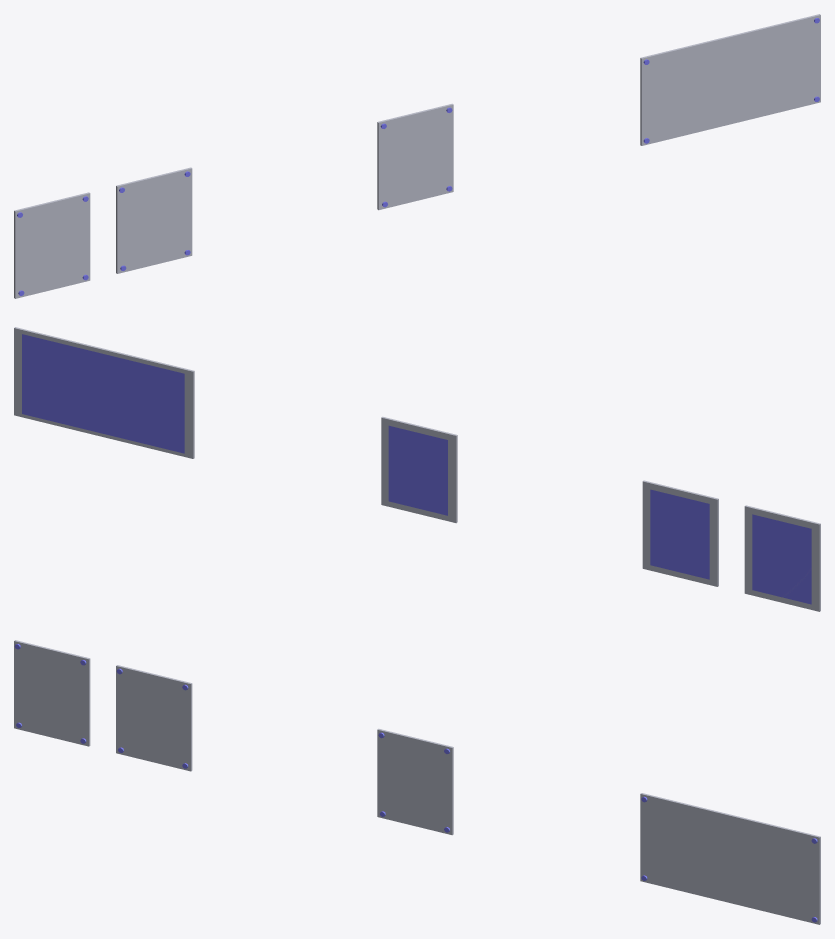
The model's file is wall_deco.fbx.
3 views of the same model, one above another, from view 1: azimuth 30°, elevation 25°; view 2: azimuth 150°, elevation 25°; view 3: azimuth 330°, elevation 25° (orthographic).
Parts seen in each view (by area): view 1: wall_deco_glass; view 2: wall_deco, wall_deco_glass; view 3: wall_deco_glass.
Boxes of the visible parts, x1,y1,x2,y2 form: wall_deco_glass: (14,14,820,298); wall_deco: (22,334,811,604); wall_deco_glass: (14,327,820,611); wall_deco_glass: (14,640,820,924).
Size of the model in its own units: 3869 by 401 by 22.32.
2 materials, 1 textured.
